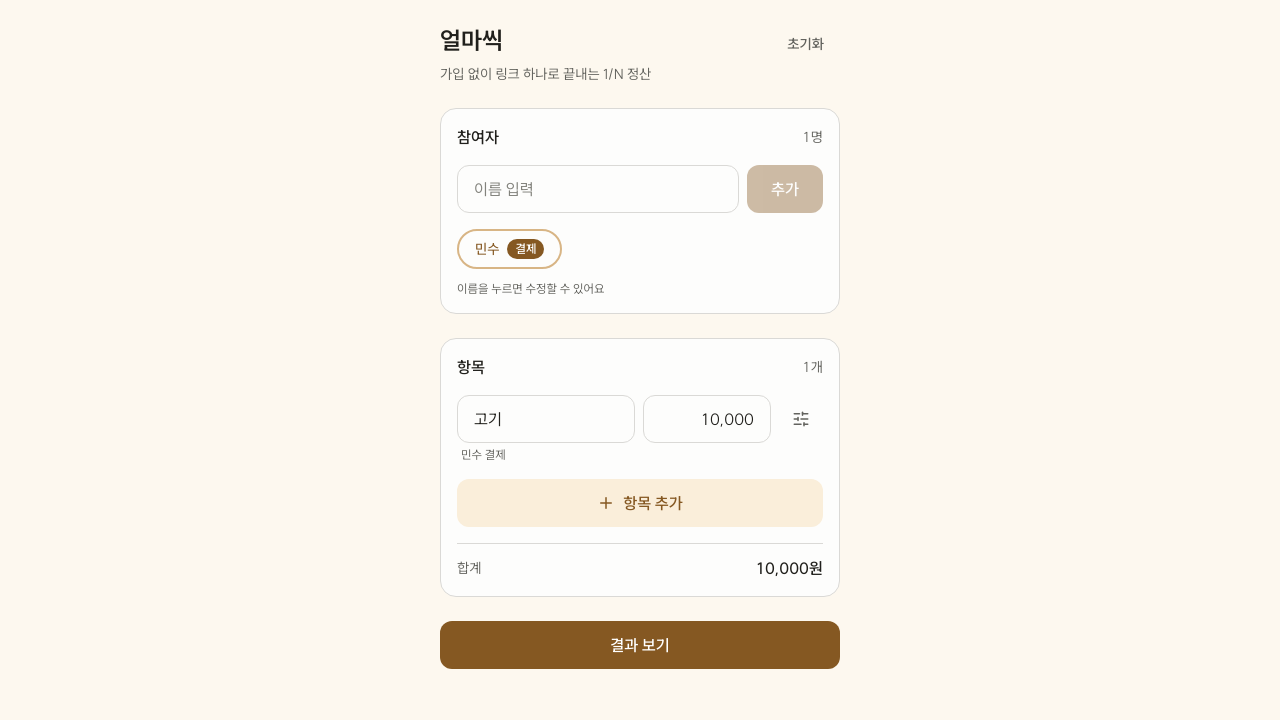
Test: 결과 보기 흐름 › 입력 단계에서 확인 후 정산을 초기화한다
What coordinates should you click on to do the following:
click the button "초기화"
I would click on:
 (806, 44)
Its box is [771, 24, 840, 64].
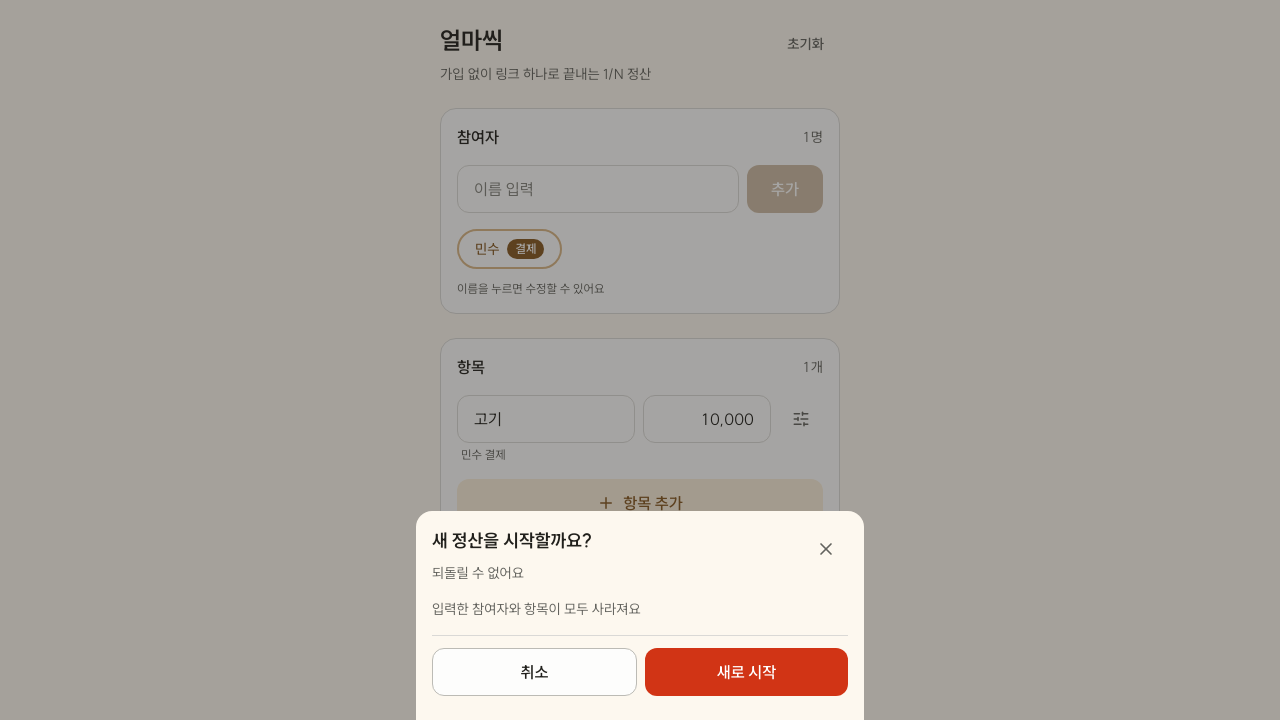
Expected: the dialog "새 정산을 시작할까요?" shows "입력한 참여자와 항목이 모두 사라져요", [432, 600, 641, 618]
What coordinates should you click on to do the following:
click the button "취소"
I would click on:
 (534, 672)
Its box is [432, 648, 637, 696].
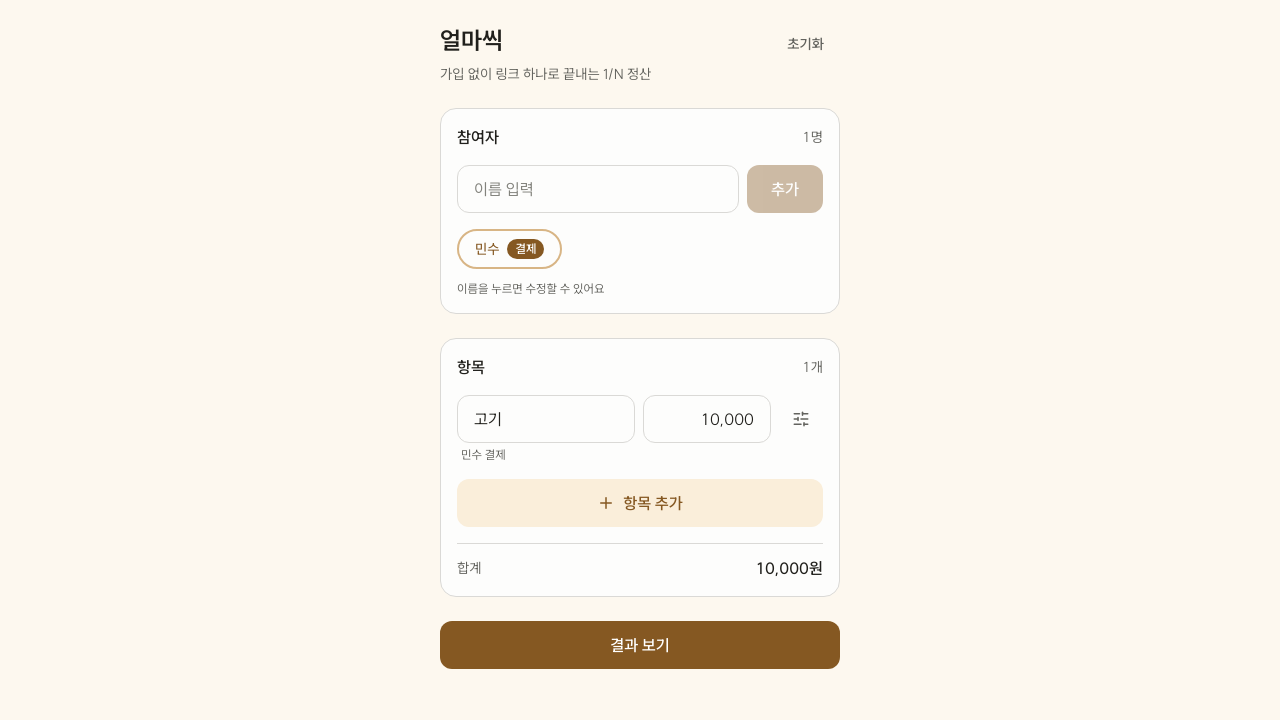
What coordinates should you click on to do the following:
click the button "초기화"
I would click on:
 (806, 44)
Its box is [771, 24, 840, 64].
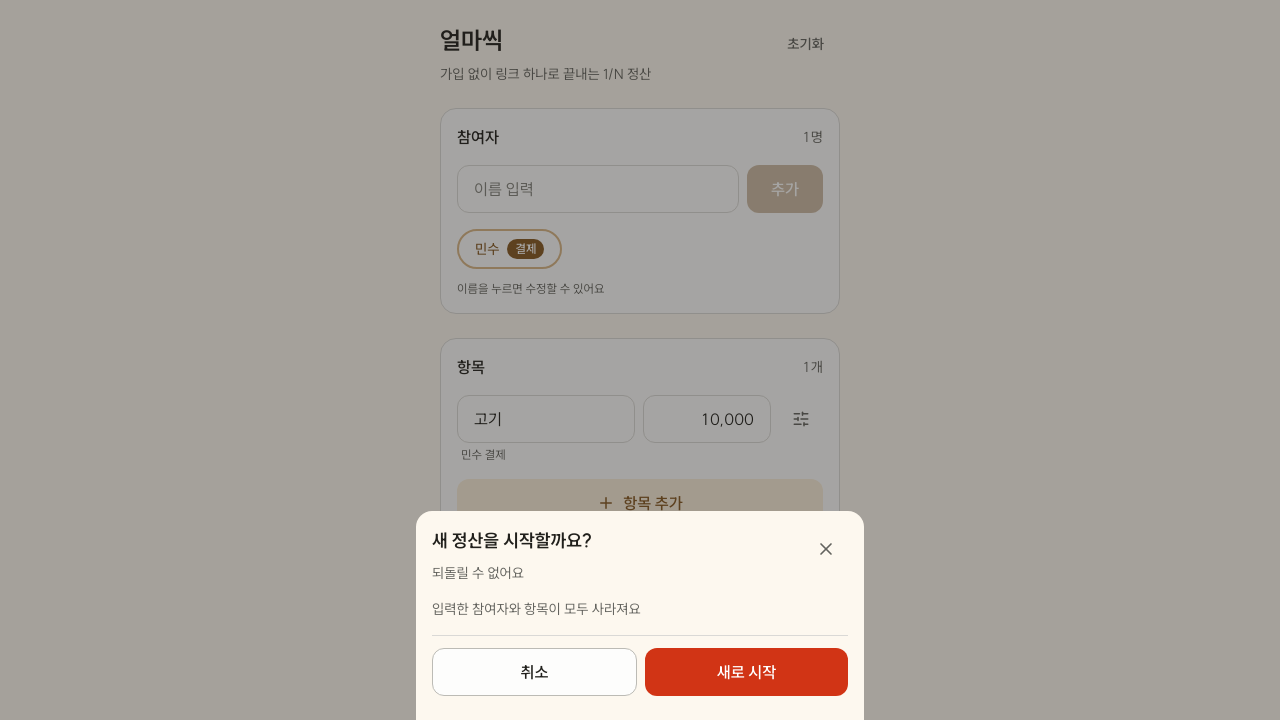
What coordinates should you click on to do the following:
click the button "새로 시작"
I would click on:
 (746, 672)
Its box is [645, 648, 848, 696].
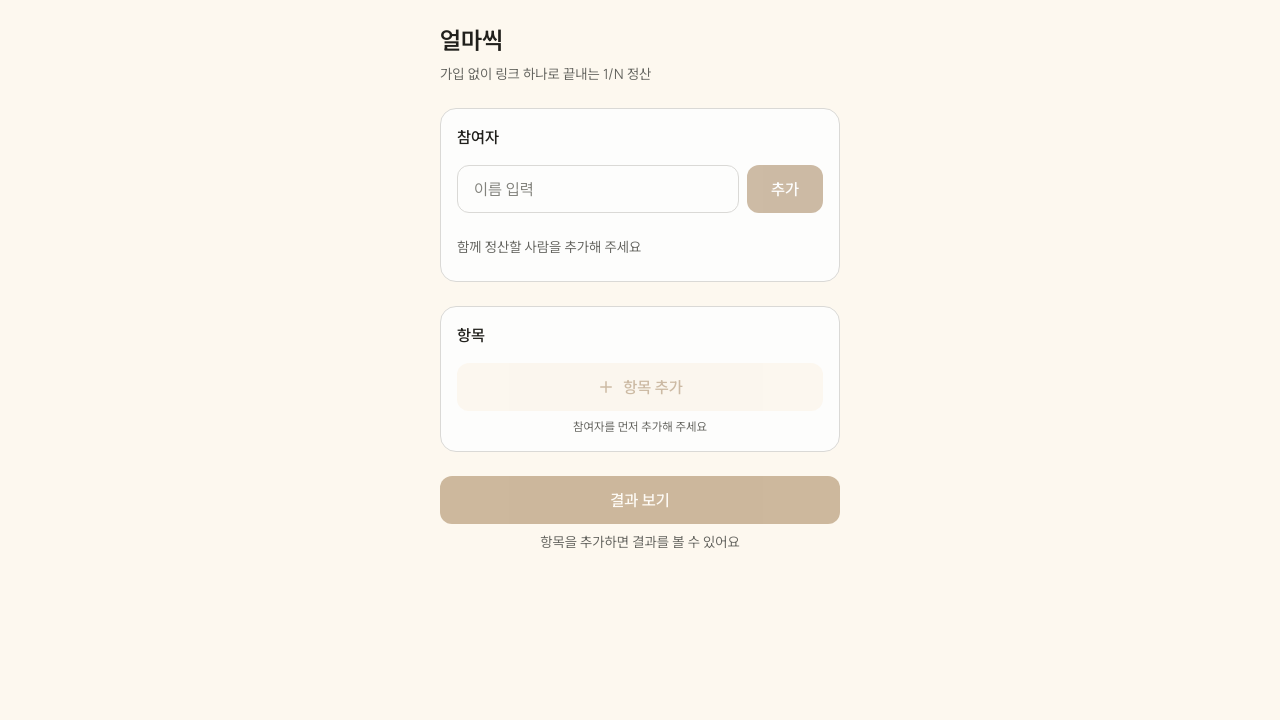
Expected: the button "결과 보기" is disabled, [440, 476, 840, 524]
